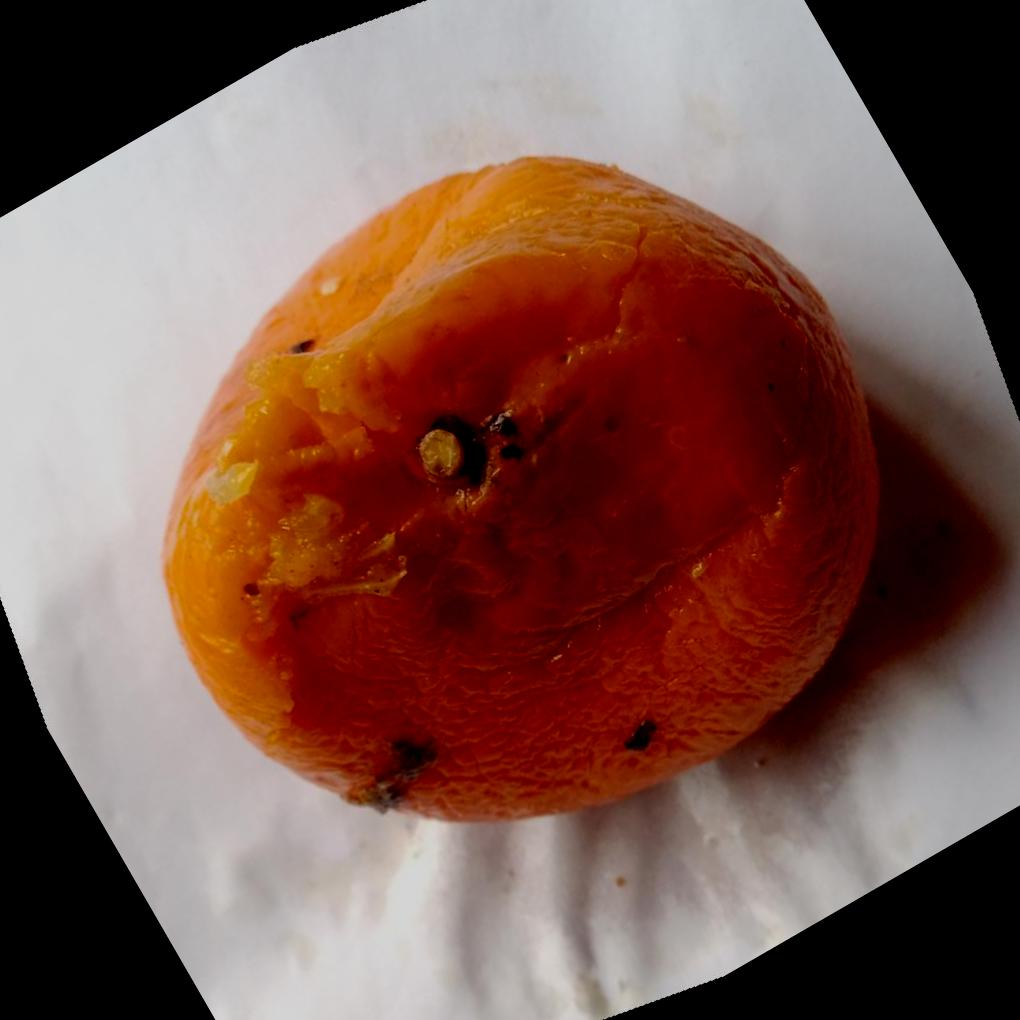FreshOrange: (162, 151, 887, 825)
